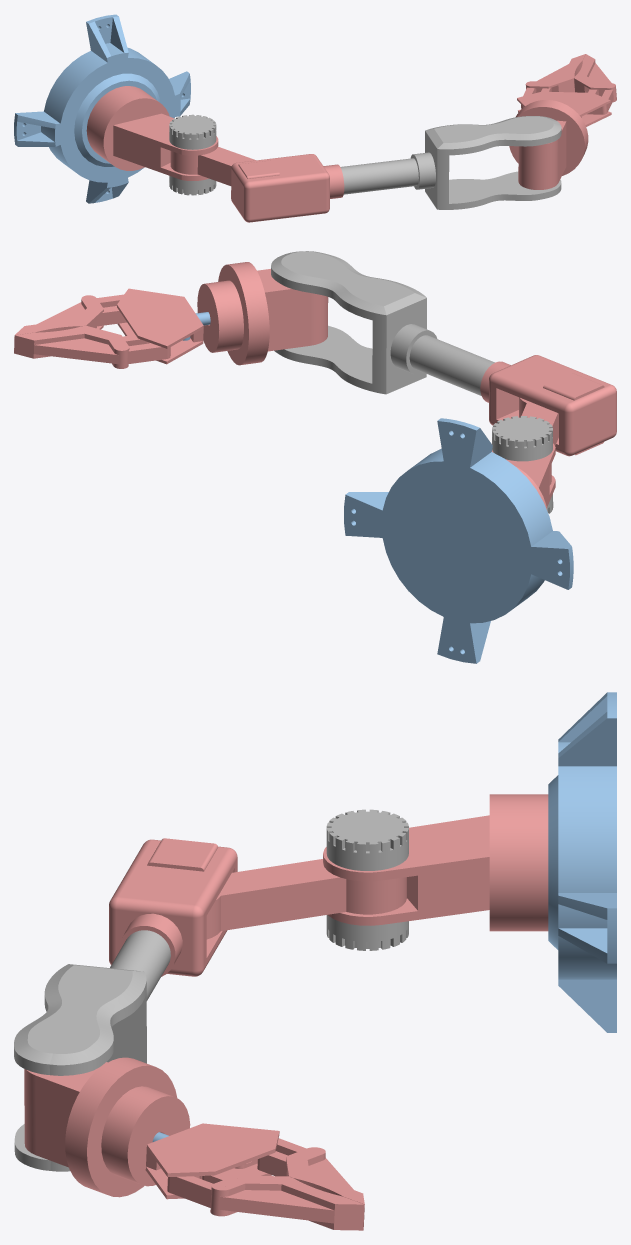
Rendered from Robotic_Arm.glb.
3 views of the same model, one above another, from view 1: azimuth 30°, elevation 25°; view 2: azimuth 150°, elevation 25°; view 3: azimuth 270°, elevation 25° (orthographic). The views are drawn at different scales.
Visible parts, largest first — view 1: Node6, Node7, Node3, Node4, Node14, Node5, Node2, Node1, Node24, Node22, Node23; view 2: Node6, Node7, Node14, Node4, Node24, Node22, Node5, Node2, Node23, Node3, Node1, Node20; view 3: Node6, Node3, Node14, Node7, Node4, Node1, Node2, Node24, Node23, Node5, Node22, Node17.
Part boxes in pixels (<box>): Node6: <box>14,14,190,203</box>; Node7: <box>410,116,561,209</box>; Node3: <box>86,86,218,180</box>; Node4: <box>231,154,344,222</box>; Node14: <box>509,100,588,189</box>; Node5: <box>340,158,418,194</box>; Node2: <box>169,114,216,195</box>; Node1: <box>170,146,255,185</box>; Node24: <box>517,91,611,126</box>; Node22: <box>525,54,585,92</box>; Node23: <box>574,54,616,102</box>; Node6: <box>344,418,573,663</box>; Node7: <box>271,251,437,394</box>; Node14: <box>197,262,328,365</box>; Node4: <box>480,355,616,456</box>; Node24: <box>117,288,203,364</box>; Node22: <box>14,325,129,368</box>; Node5: <box>409,335,494,395</box>; Node2: <box>492,416,553,513</box>; Node23: <box>14,295,103,349</box>; Node3: <box>492,443,555,510</box>; Node1: <box>519,397,558,485</box>; Node20: <box>119,340,170,363</box>; Node6: <box>548,692,616,1032</box>; Node3: <box>323,794,548,931</box>; Node14: <box>24,1057,190,1197</box>; Node7: <box>14,964,146,1171</box>; Node4: <box>109,838,237,976</box>; Node1: <box>206,859,406,939</box>; Node2: <box>326,809,408,950</box>; Node24: <box>145,1123,279,1199</box>; Node23: <box>210,1175,364,1230</box>; Node5: <box>110,930,170,1000</box>; Node22: <box>286,1147,364,1226</box>; Node17: <box>167,1167,225,1207</box>.
Bounding box in the file's own units: 72.47 × 25.18 × 43.1.
